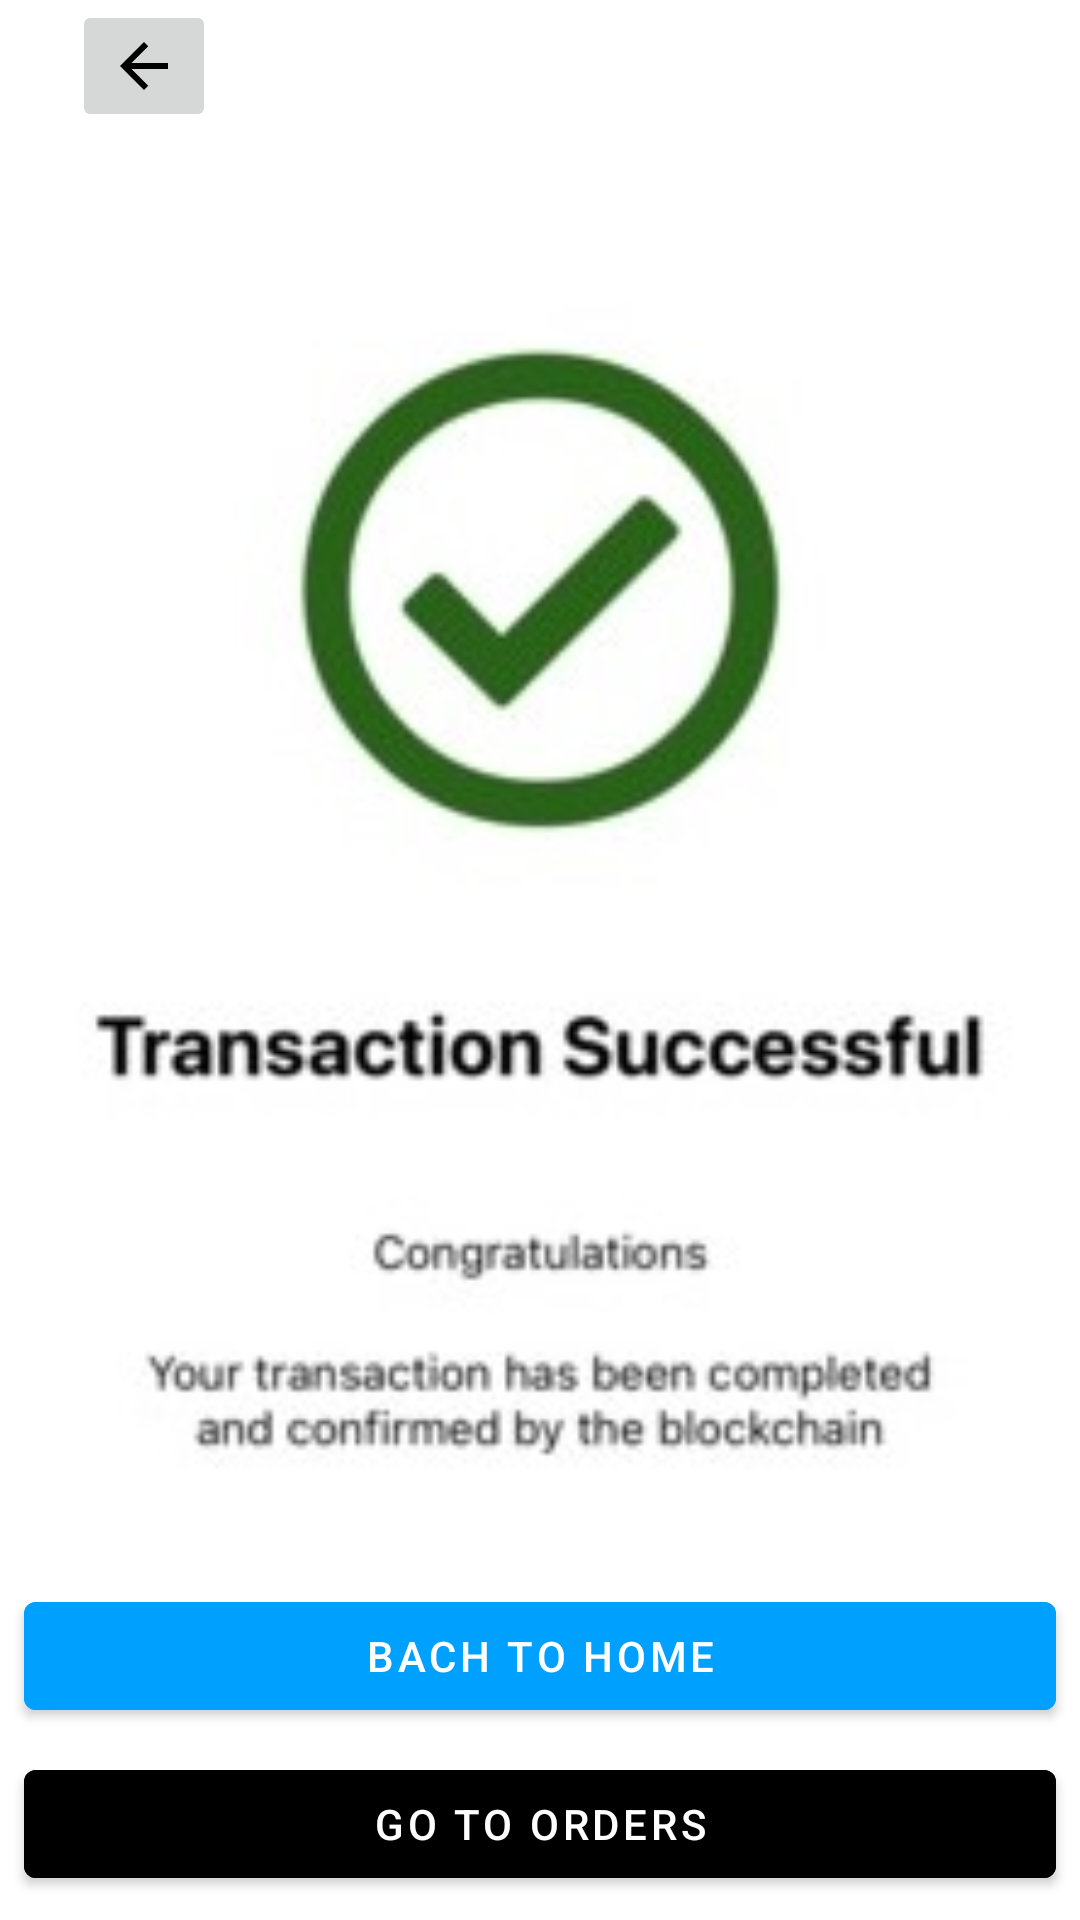

Icons on this 1080px x 1920px Android screen, each with its box as (x1,y1,x2,y2):
backarrow: (84,18,204,114)
